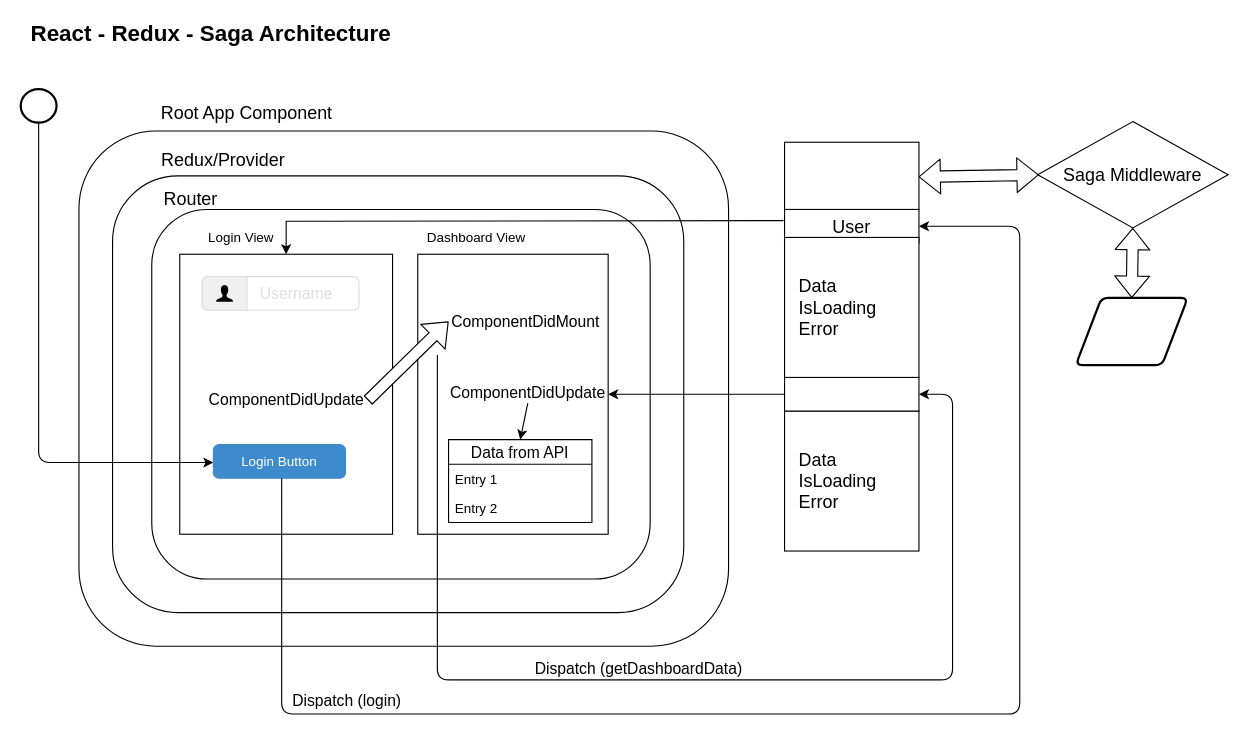
The diagram is 1248 pixels wide and 743 high, and some of its shapes have lost their labels. Each missing label, with the centre of its shape:
Data: [851,393]
Redux Store: [851,175]
Rest API: [1131,331]
